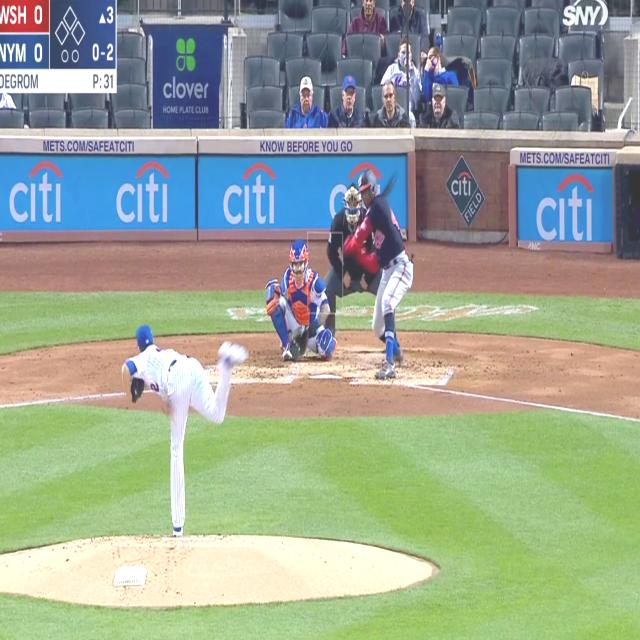baseball: (279, 296, 285, 306)
